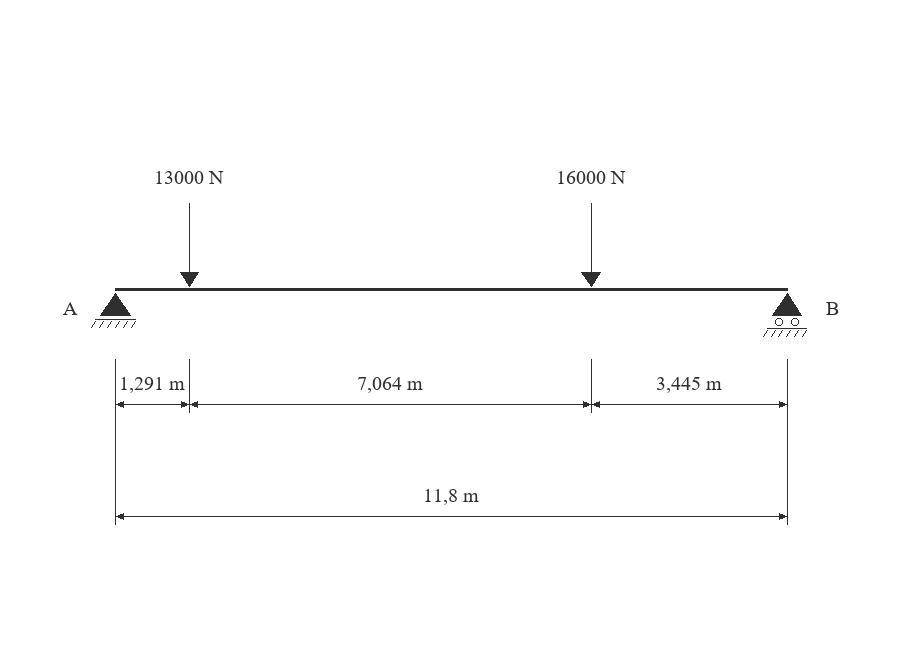pin_support: (91, 293, 136, 328)
point_load: (581, 203, 601, 287), (180, 203, 199, 287)
roller_support: (763, 293, 807, 337)
